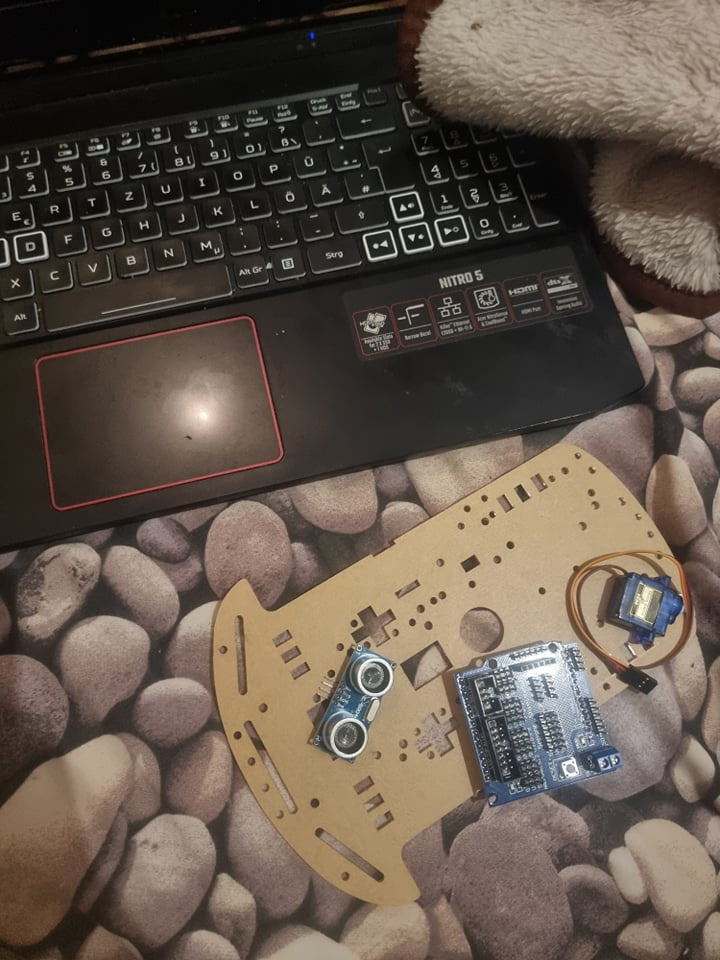5V EXPANSION: (456, 643, 623, 811)
SENSOR: (307, 645, 399, 761)
